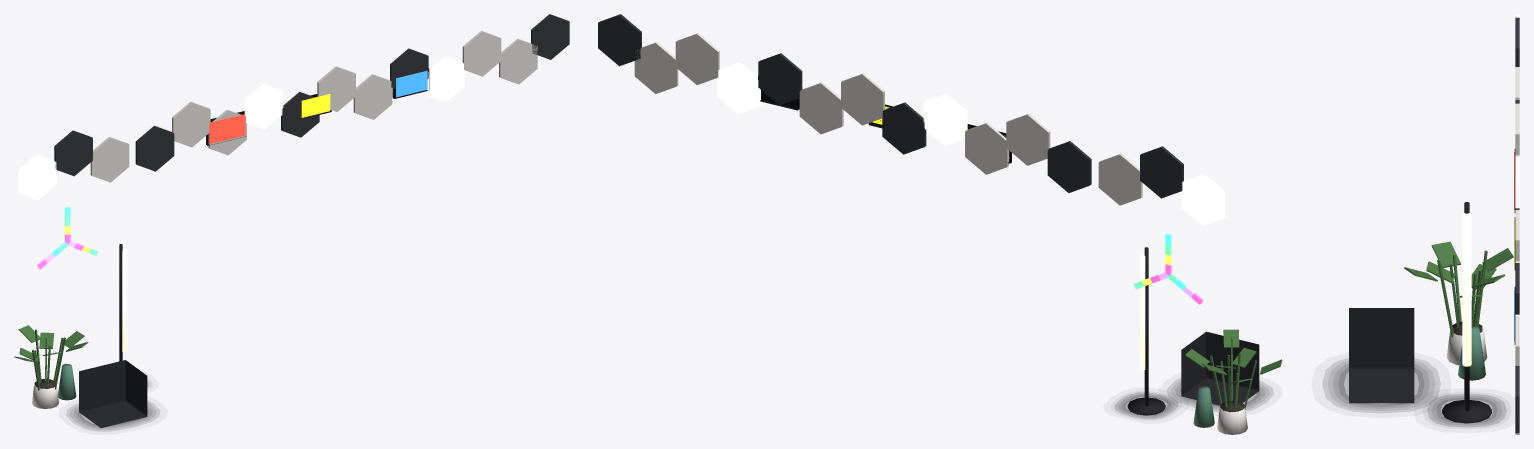
The model's file is Arcade_North_Wall.glb.
The picture shows the model from 3 angles, left to right: view 1: azimuth 30°, elevation 25°; view 2: azimuth 150°, elevation 25°; view 3: azimuth 270°, elevation 25°; orthographic projection. The views are drawn at different scales.
Parts seen in each view (by area): view 1: root; view 2: root; view 3: root.
Boxes of the visible parts, left/top/right/bottom form: root: left=14, top=14, right=569, bottom=431; root: left=598, top=14, right=1282, bottom=434; root: left=1322, top=14, right=1519, bottom=434.
Bounding box in the file's own units: 6.05 × 2.5 × 1.26.
